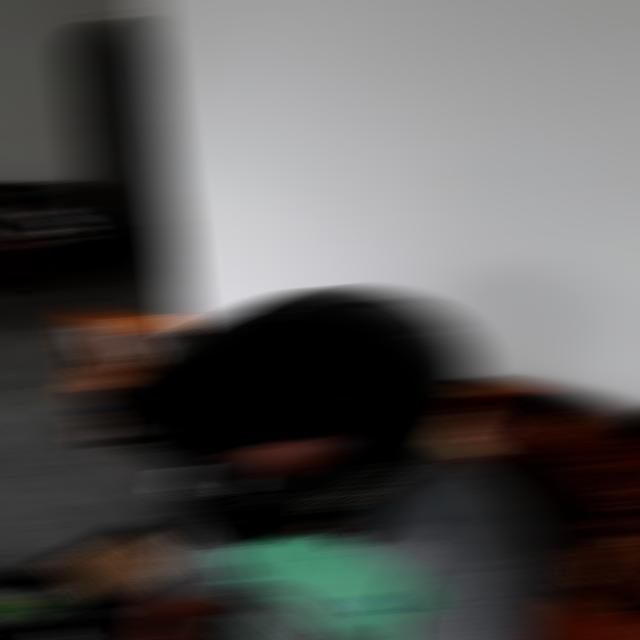With Helmet: (84, 283, 483, 546)
